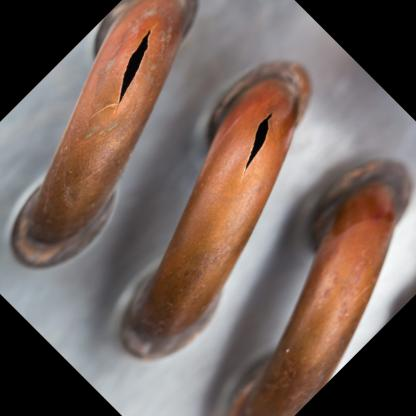burst: (108, 34, 181, 111), (233, 109, 293, 179)
